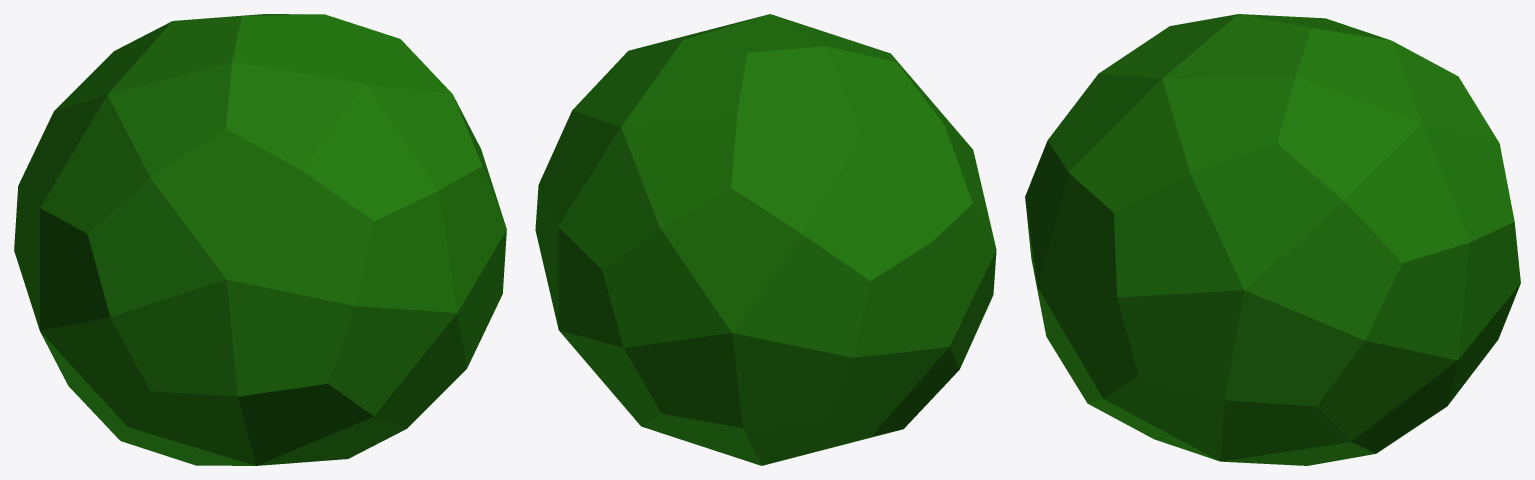
File: bush.fbx
3 views of the same model, side by side, from view 1: azimuth 30°, elevation 25°; view 2: azimuth 150°, elevation 25°; view 3: azimuth 270°, elevation 25° (orthographic). The views are drawn at different scales.
Visible parts, largest first — view 1: tree.joined.001; view 2: tree.joined.001; view 3: tree.joined.001.
Part boxes in pixels (<box>): tree.joined.001: <box>14,14,506,465</box>; tree.joined.001: <box>535,14,996,465</box>; tree.joined.001: <box>1025,14,1520,465</box>.
Size of the model in its own units: 2876 by 2716 by 2795.
